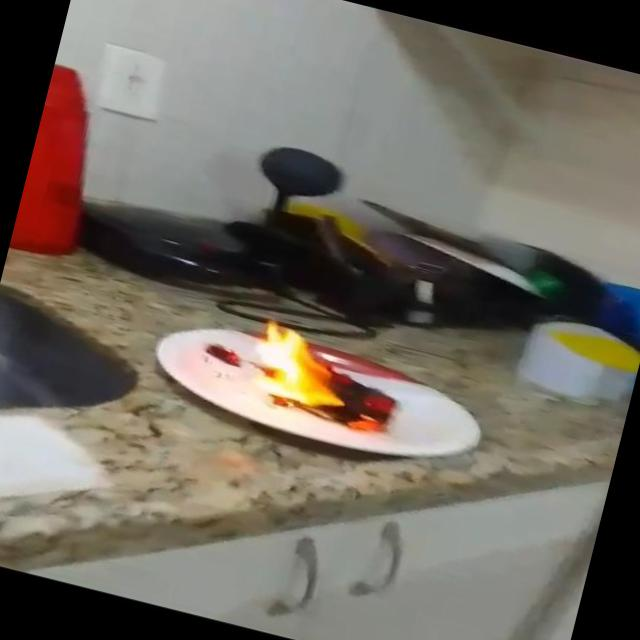Fire: (242, 316, 352, 419)
